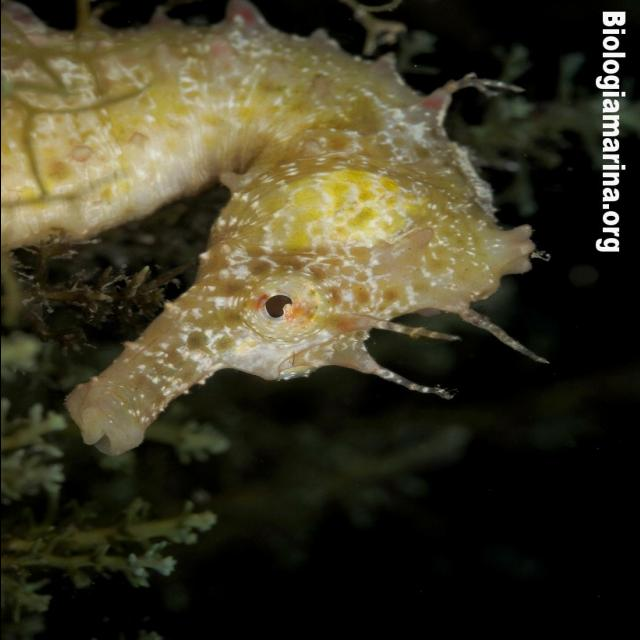Guttu: (56, 148, 542, 464)
